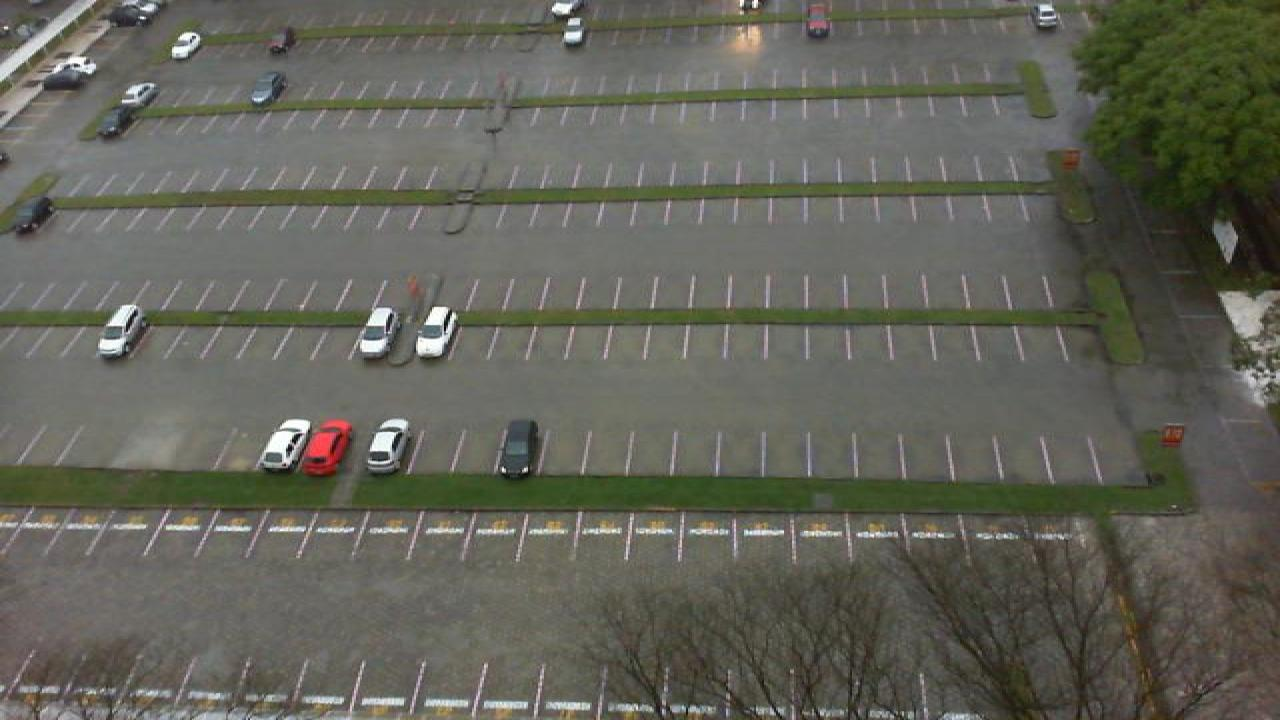Car: (300, 419, 356, 477), (256, 418, 314, 472), (94, 302, 148, 358), (350, 304, 402, 361), (494, 419, 544, 477), (410, 304, 460, 361), (362, 418, 414, 472), (10, 194, 58, 238), (248, 70, 288, 108), (96, 105, 138, 138), (800, 1, 836, 39), (168, 29, 206, 61), (120, 0, 162, 27), (56, 54, 98, 80), (118, 81, 158, 108), (1030, 1, 1064, 32), (266, 26, 298, 56), (560, 17, 590, 49), (550, 0, 584, 18)
